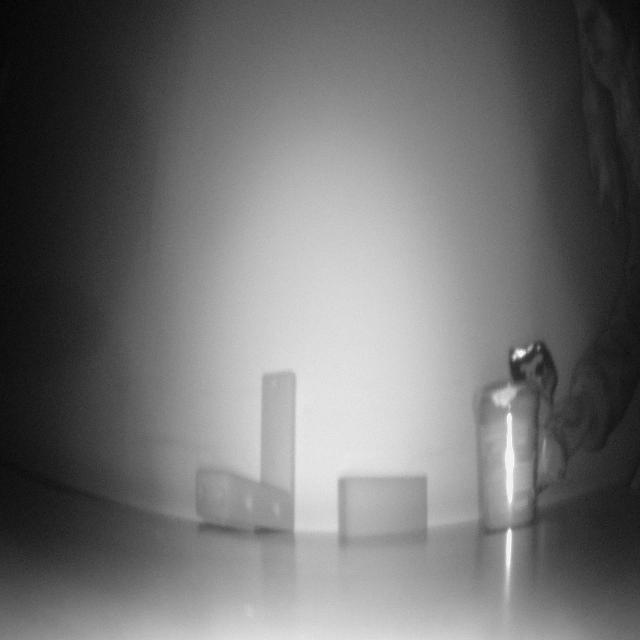targets: (198, 361, 299, 538), (470, 384, 540, 532), (336, 473, 428, 547)
